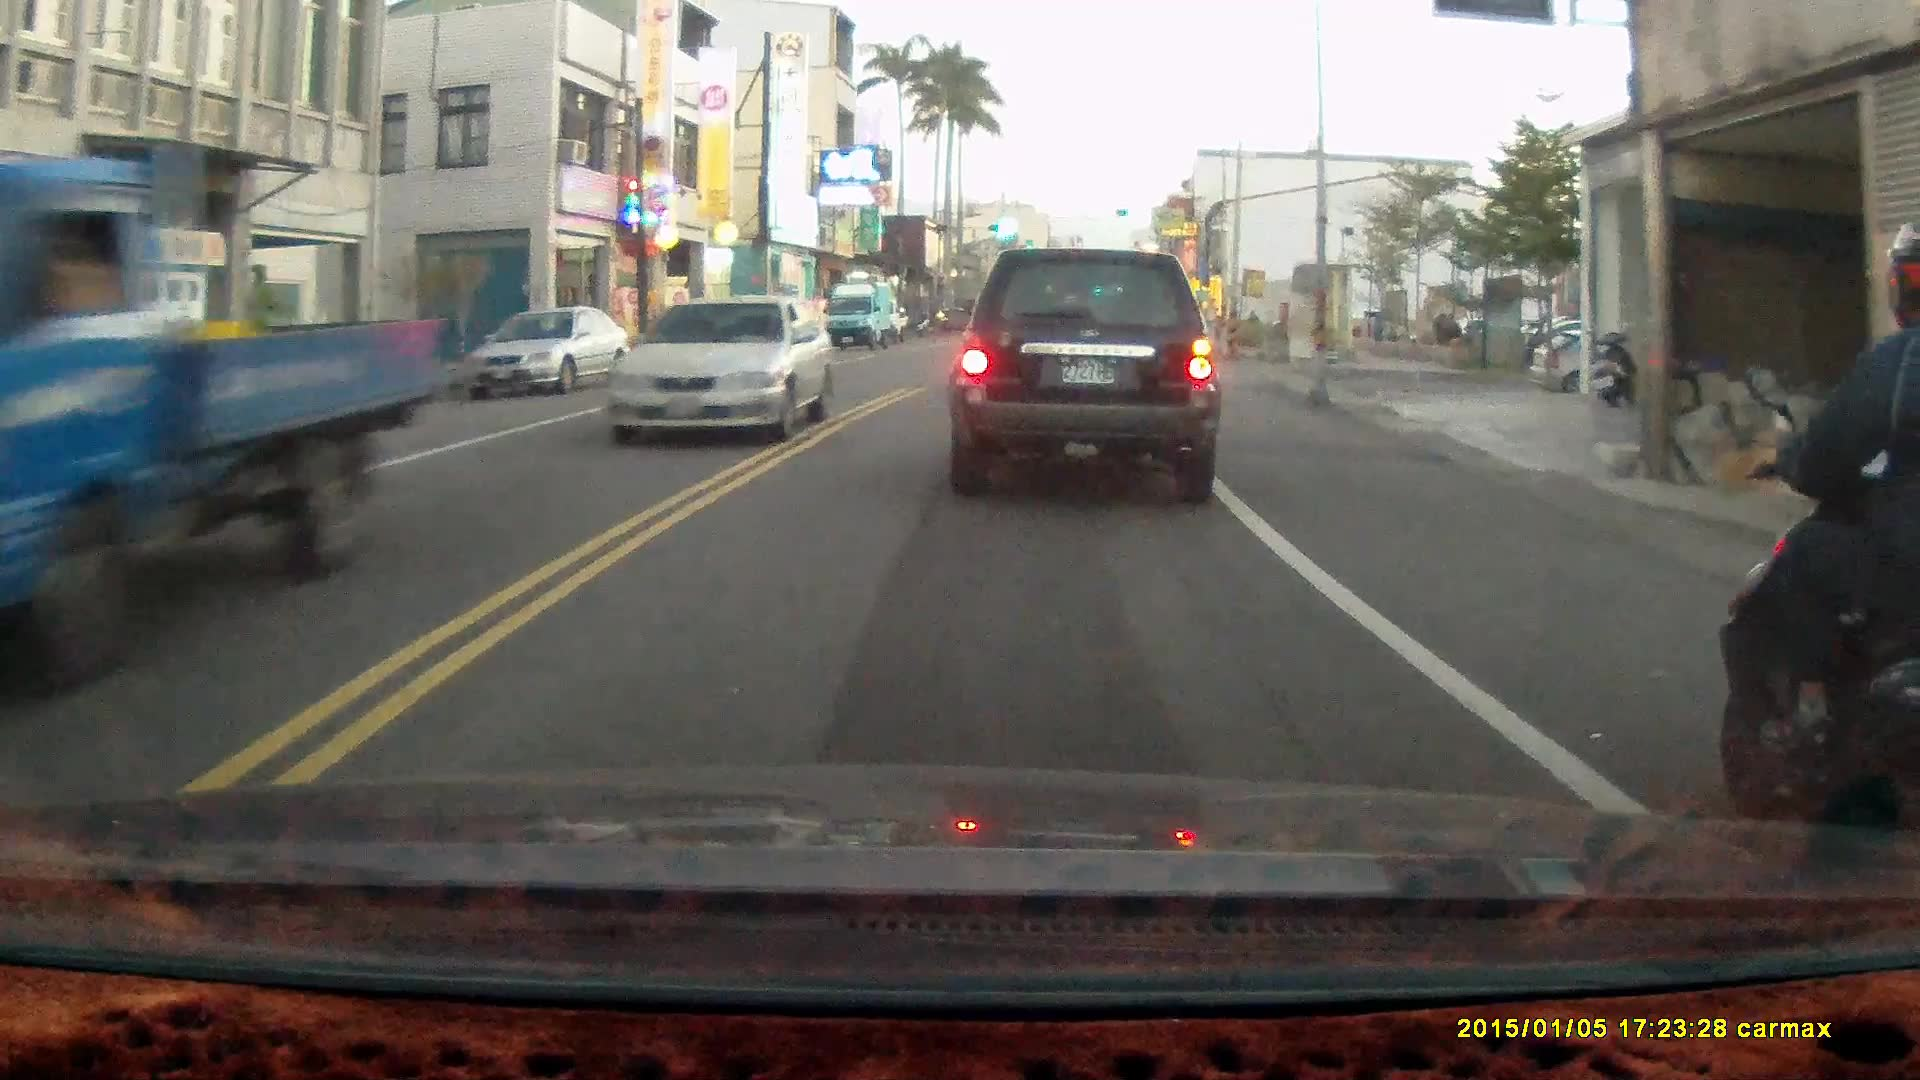rider: (1716, 213, 1920, 901)
vehicle: (1, 154, 449, 645), (946, 242, 1222, 495), (604, 292, 834, 445), (1524, 324, 1726, 403), (459, 305, 631, 397), (823, 281, 904, 355)
